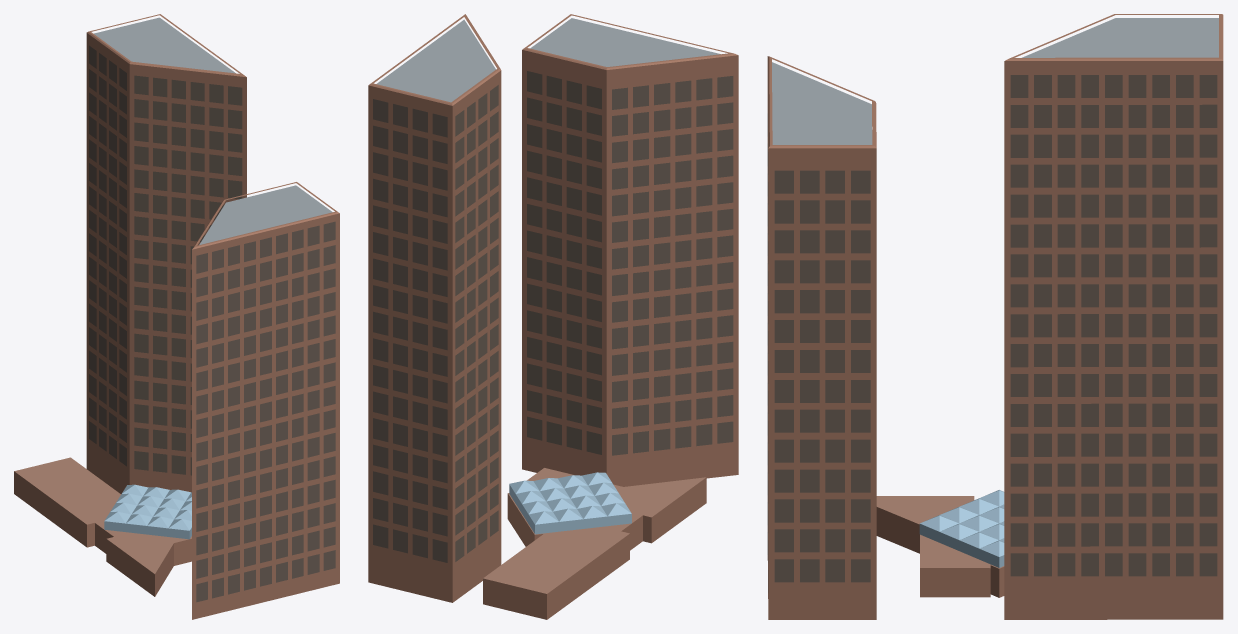
Rendered from la-wells-fargo-center.glb.
The picture shows the model from 3 angles, left to right: view 1: azimuth 30°, elevation 25°; view 2: azimuth 150°, elevation 25°; view 3: azimuth 270°, elevation 25°; orthographic projection. The views are drawn at different scales.
Visible parts, largest first — view 1: Wells Fargo Center; view 2: Wells Fargo Center; view 3: Wells Fargo Center.
Boxes of the visible parts, x1,y1,x2,y2 form: Wells Fargo Center: (14, 14, 339, 619); Wells Fargo Center: (368, 14, 738, 619); Wells Fargo Center: (767, 14, 1223, 619).
Bounding box in the file's own units: 83.85 × 230 × 170.
